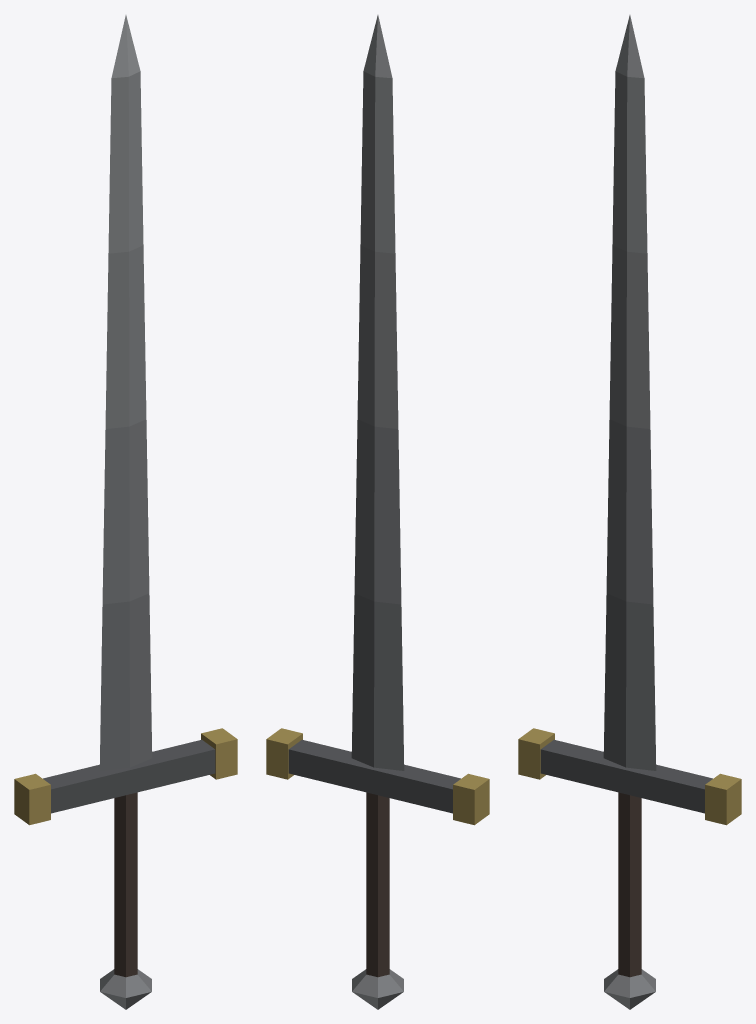
The model's file is sword_great_iron_s1012.glb.
The picture shows the model from 3 angles, left to right: view 1: azimuth 30°, elevation 25°; view 2: azimuth 150°, elevation 25°; view 3: azimuth 330°, elevation 25°; orthographic projection.
Parts seen in each view (by area): view 1: sword_great_iron_s1012; view 2: sword_great_iron_s1012; view 3: sword_great_iron_s1012.
Part boxes in pixels (x1,y1,x2,y2): sword_great_iron_s1012: [14, 15, 237, 1009]; sword_great_iron_s1012: [266, 15, 489, 1009]; sword_great_iron_s1012: [518, 15, 741, 1009].
Bounding box in the file's own units: 0.2714 × 1.24 × 0.0589.
Materials: 1 (1 with a texture image).
